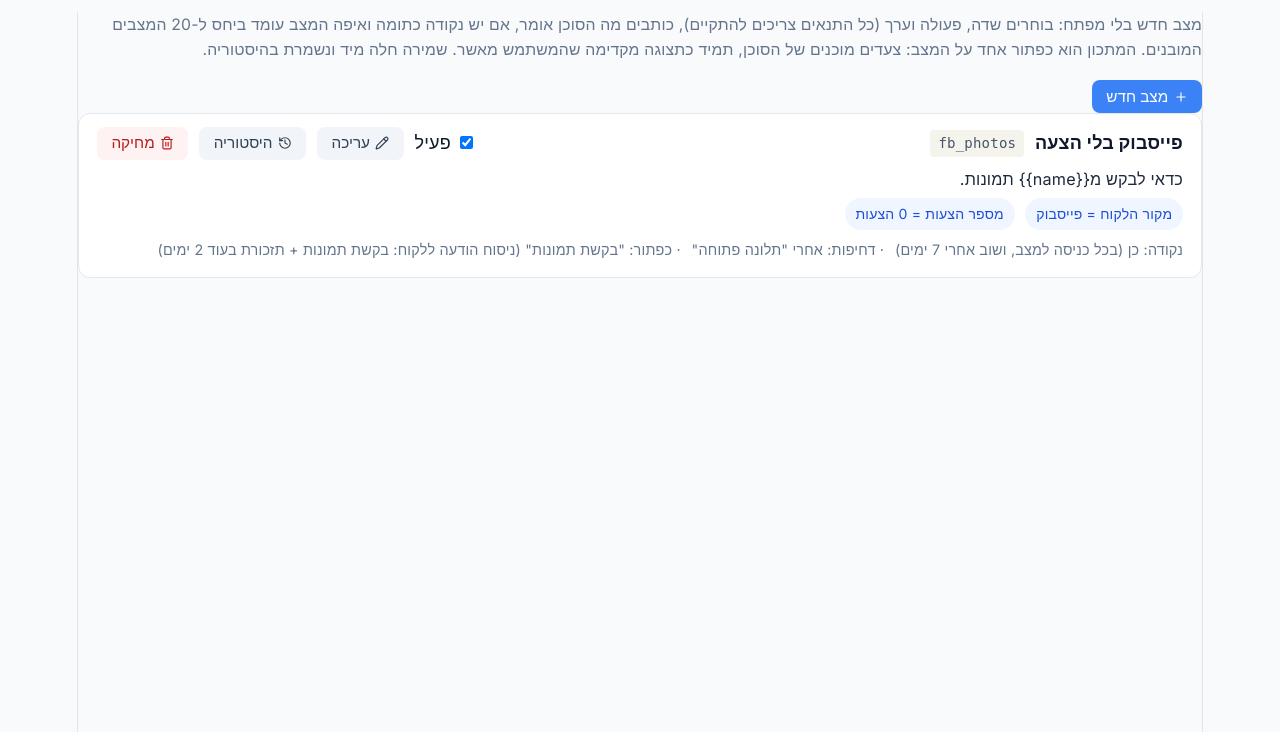
Scenario: CustomStates (E12 state builder) › switches a state off without deleting it, and shows its history
Click the checkbox named "פעיל פייסבוק בלי הצעה". click: (467, 143)
box: 460,136 -> 473,149
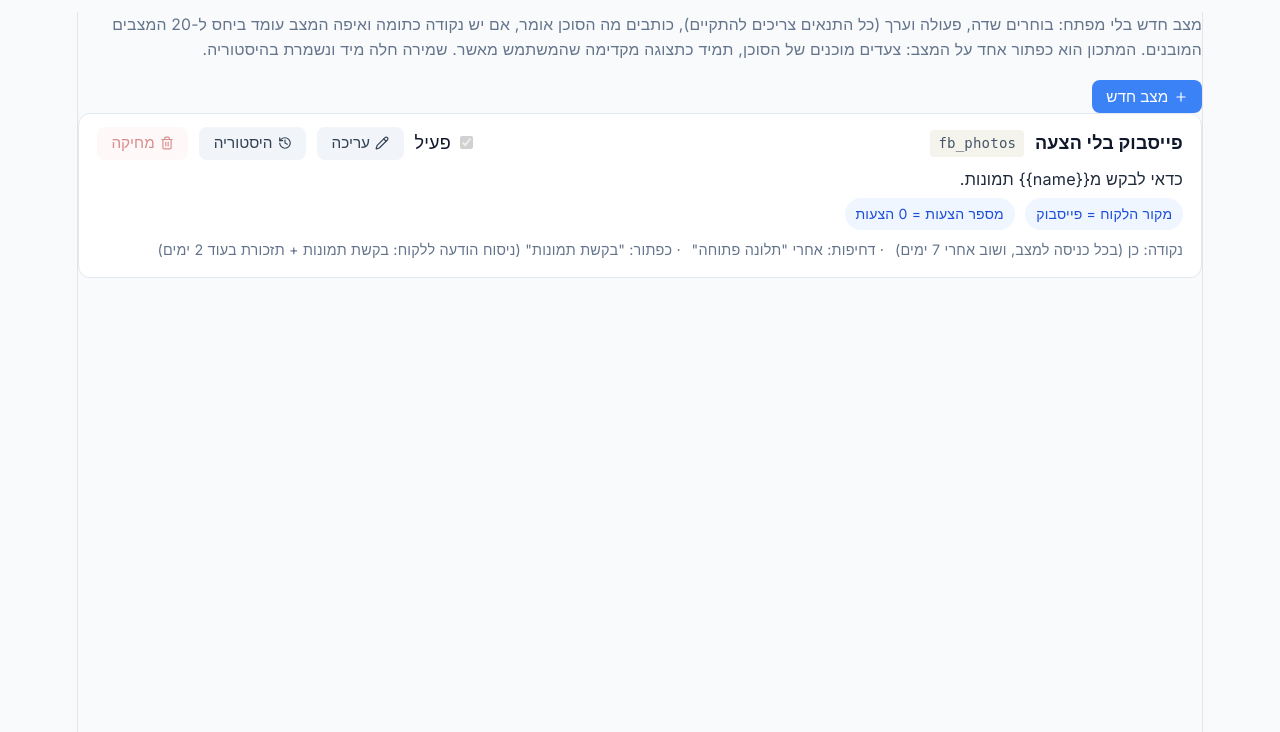
Click the button "היסטוריה". click: (253, 144)
box: 199,127 -> 306,160
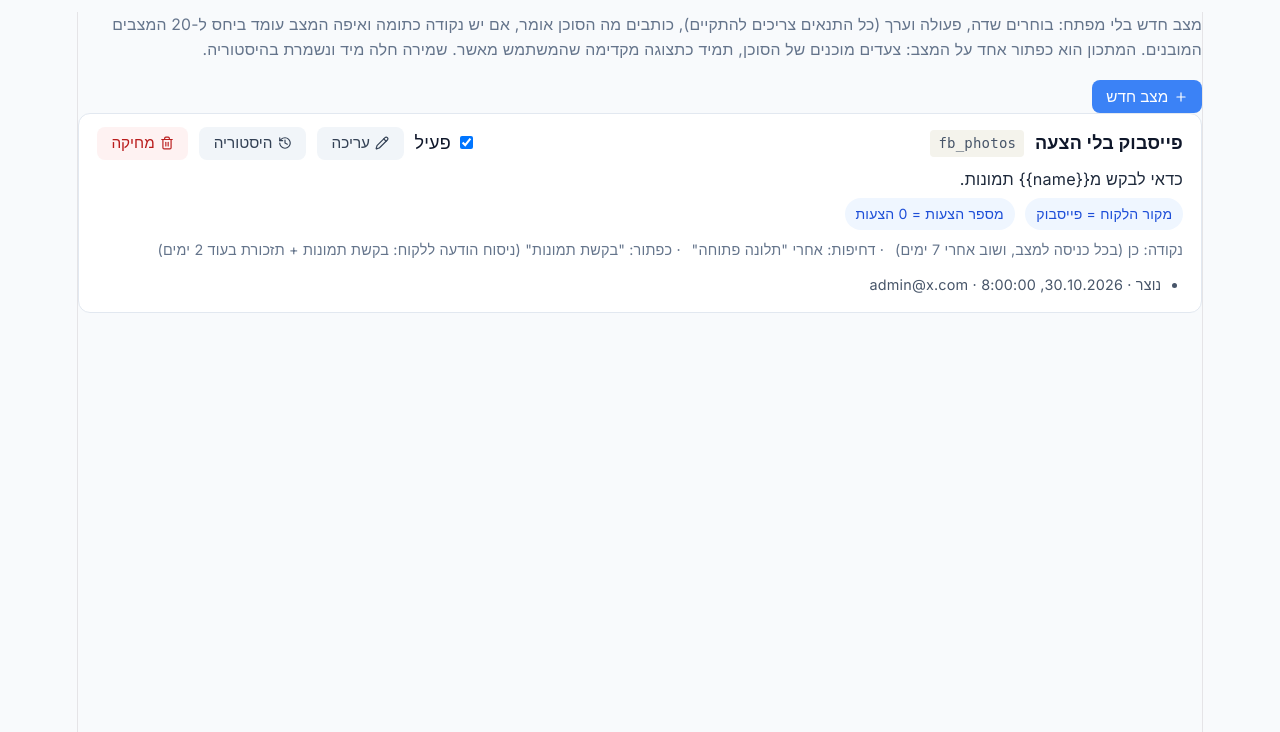
Expected: the list item "נוצר · 30.10.2026, 8:00:00 · admin@x.com" is shown, 870,276 -> 1161,293
